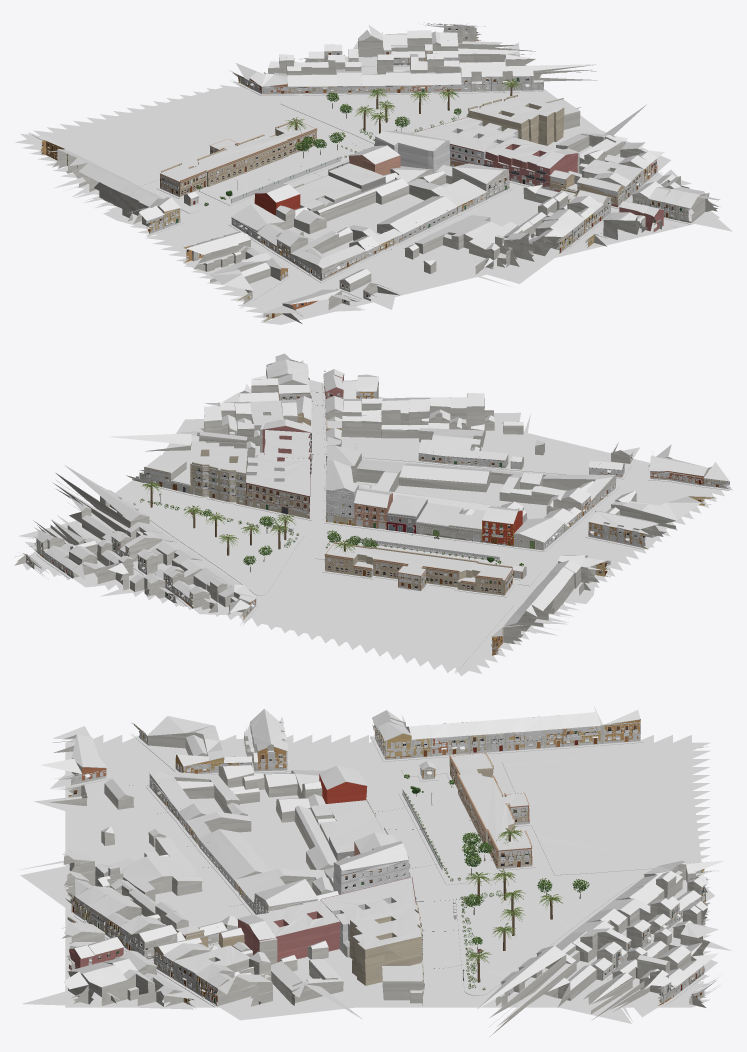
File: zona_-2_0.glb
The picture shows the model from 3 angles, top to bottom: view 1: azimuth 30°, elevation 25°; view 2: azimuth 150°, elevation 25°; view 3: azimuth 270°, elevation 25°; orthographic projection. The views are drawn at different scales.
Parts seen in each view (by area): view 1: z_calle_-2_0, z_tejados_-2_0, z_casas_-2_0, z_casas_planas_-2_0, z_fachadas_-2_0, z_arboles_-2_0, z_suelo_-2_0, z_senales_sueltas_-2_0; view 2: z_calle_-2_0, z_tejados_-2_0, z_casas_-2_0, z_casas_planas_-2_0, z_fachadas_-2_0, z_suelo_-2_0, z_arboles_-2_0, z_senales_sueltas_-2_0; view 3: z_calle_-2_0, z_tejados_-2_0, z_casas_-2_0, z_casas_planas_-2_0, z_fachadas_-2_0, z_suelo_-2_0, z_arboles_-2_0.
Boxes of the visible parts, x1,y1,x2,y2 form: z_calle_-2_0: (14,32,732,324); z_tejados_-2_0: (38,22,719,313); z_casas_-2_0: (41,23,718,323); z_casas_planas_-2_0: (160,35,643,271); z_fachadas_-2_0: (39,23,691,320); z_arboles_-2_0: (196,79,522,205); z_suelo_-2_0: (233,40,682,287); z_senales_sueltas_-2_0: (231,156,340,203); z_calle_-2_0: (18,360,732,676); z_tejados_-2_0: (19,353,729,636); z_casas_-2_0: (14,359,727,655); z_casas_planas_-2_0: (33,400,666,602); z_fachadas_-2_0: (26,370,729,654); z_suelo_-2_0: (28,383,620,606); z_arboles_-2_0: (133,481,523,572); z_senales_sueltas_-2_0: (307,514,499,561); z_calle_-2_0: (19,733,731,1023); z_tejados_-2_0: (41,706,723,1019); z_casas_-2_0: (49,718,715,1017); z_casas_planas_-2_0: (108,723,687,1036); z_fachadas_-2_0: (58,717,719,1006); z_suelo_-2_0: (68,785,706,1007); z_arboles_-2_0: (404,774,589,990).
Bounding box in the file's own units: 236 × 15.26 × 227.
